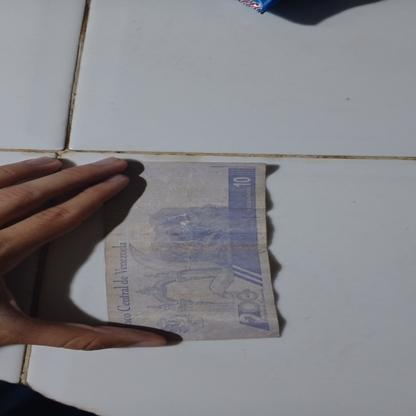ten-back-vef: (104, 161, 282, 345)
